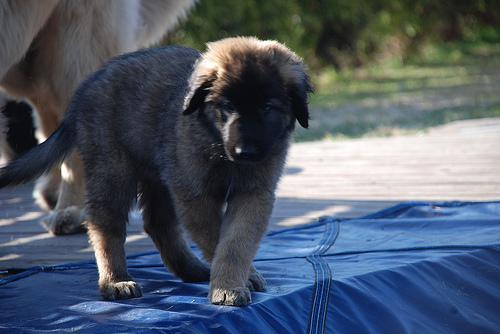dog-leonberger: (180, 36, 308, 162)
